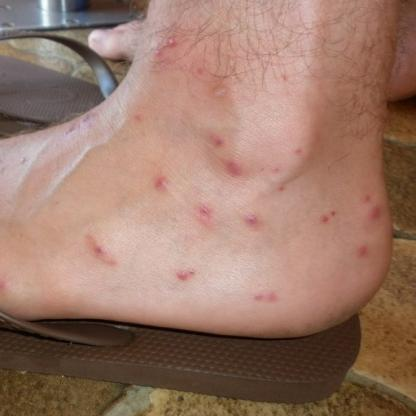Fire ant: (214, 124, 254, 172), (194, 57, 242, 97), (274, 134, 309, 186), (68, 103, 108, 141), (89, 219, 128, 252), (156, 30, 190, 60), (358, 181, 386, 214), (148, 165, 180, 190), (197, 190, 224, 218), (250, 275, 286, 294), (179, 251, 211, 271), (243, 198, 269, 222), (316, 197, 344, 215), (132, 104, 154, 122), (354, 230, 373, 250), (25, 143, 38, 159), (10, 260, 21, 278)
